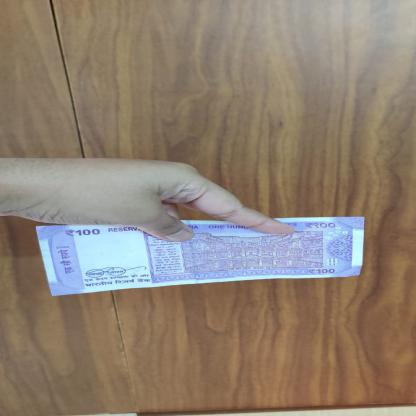New100Back: (35, 216, 368, 296)
